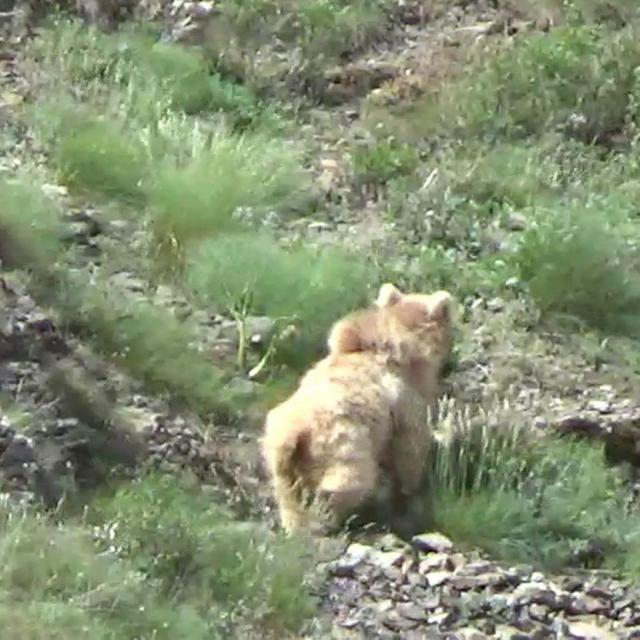Bear: (259, 285, 456, 545)
